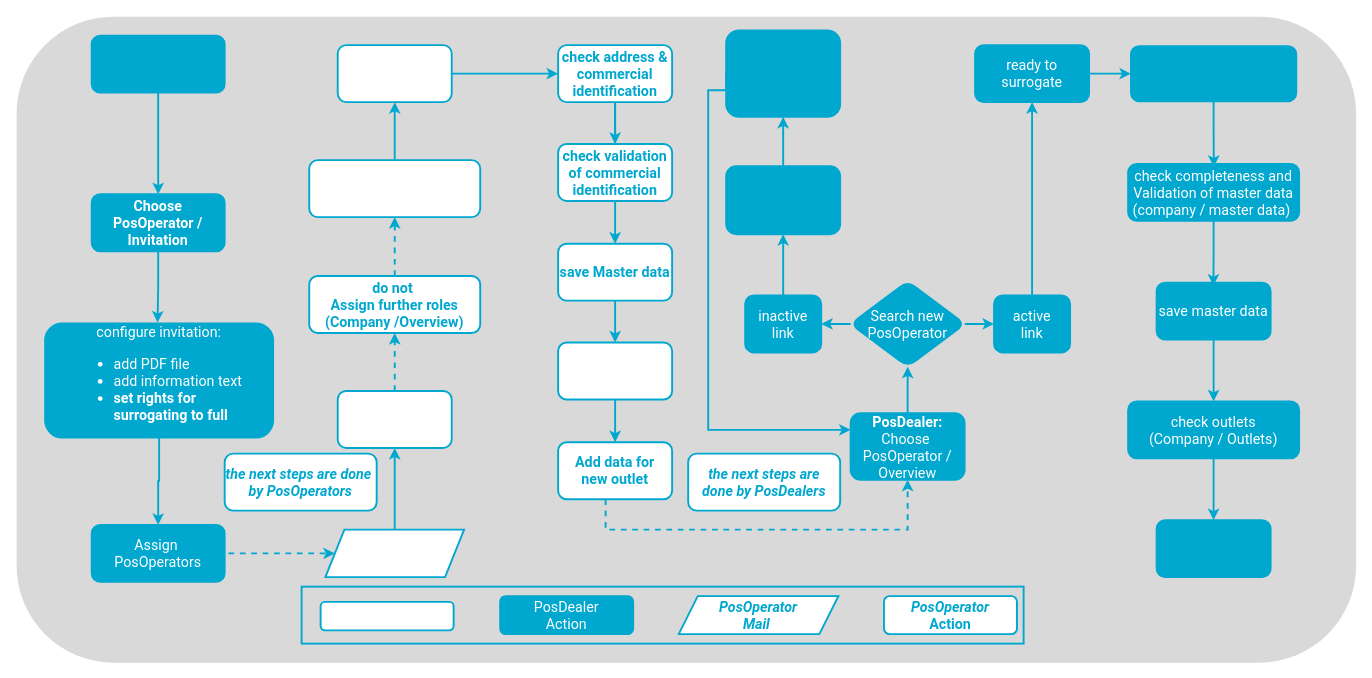
This 1372x678 diagram has some shape labels left out. Each missing label, with the centre of its shape:
accept invitation: point 394,553
activate role contract: point 394,419
check a ssigned roles (Company /Overview): point 1213,73
choose Company / Master data: point 394,73
Choose Company / Outlets: point 615,370
Choose PosOperator / Invitation / Invation history: point 783,200
do not reduce authorizations (Company /Employee): point 394,188
legend:: point 386,615
PosDealer: Open fiskaltrust.Portal: point 157,63
Repeat E-mail or copy link & send invitation by another Sender: point 783,73
switch back to your account: point 1213,548
